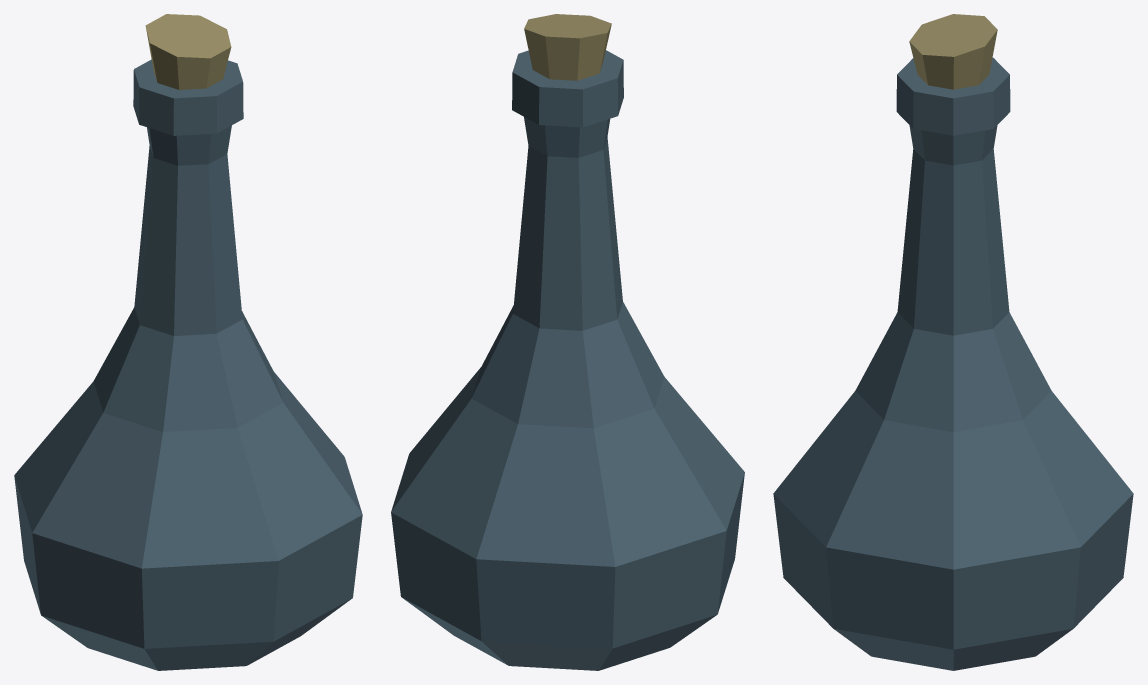
Rendered from Bottle_4.fbx.
3 views of the same model, side by side, from view 1: azimuth 30°, elevation 25°; view 2: azimuth 150°, elevation 25°; view 3: azimuth 270°, elevation 25° (orthographic).
Visible parts, largest first — view 1: Bottle_4; view 2: Bottle_4; view 3: Bottle_4.
Part boxes in pixels (box(x1,y1,x2,y2)): Bottle_4: box(14, 14, 362, 670); Bottle_4: box(391, 14, 744, 670); Bottle_4: box(773, 14, 1133, 670).
Size of the model in its own units: 17.03 by 30.91 by 17.03.
